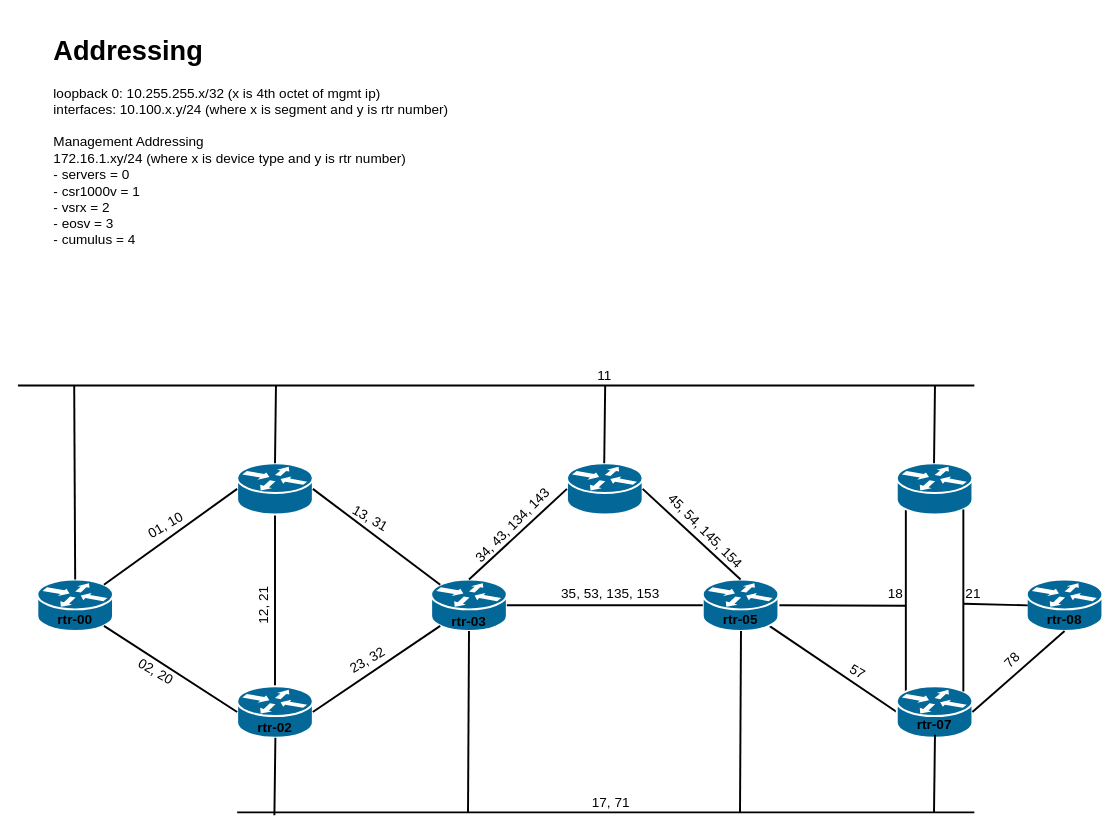
Some shapes in this 1119 by 833 pixel diagram are drawn without their labels. The shapes that lost their labels are listed below. From the top down, each one's centre as x and y in pixels, then its label:
the point at 274,488: rtr-01
the point at 604,488: rtr-04
the point at 934,488: rtr-06
